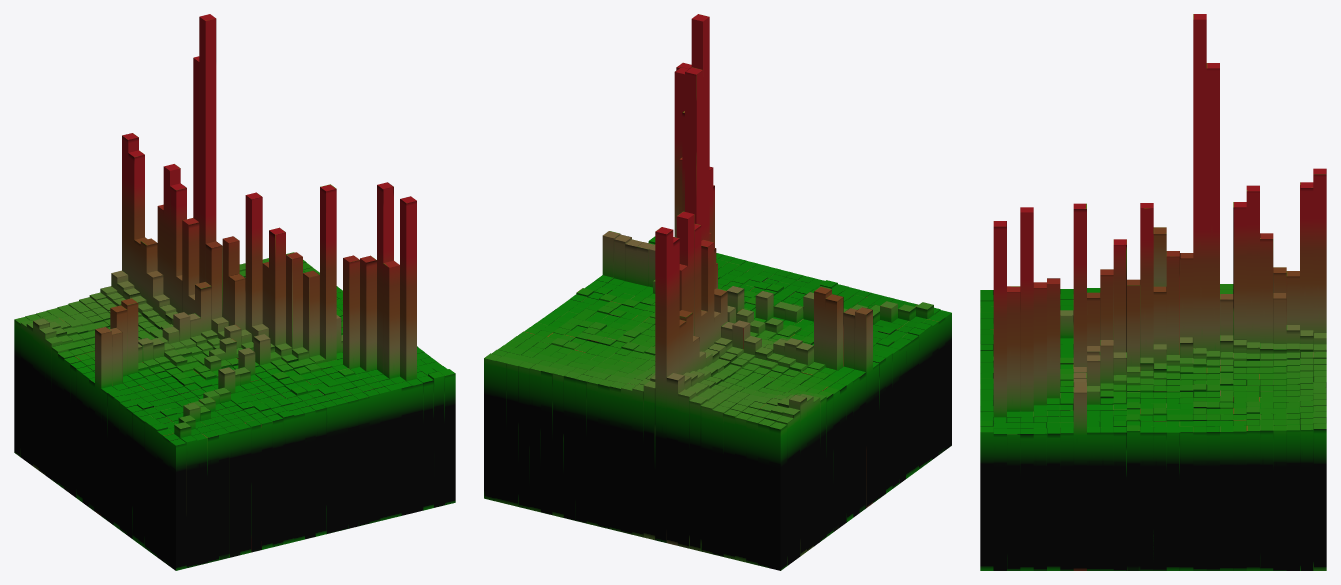
The picture shows the model from 3 angles, left to right: view 1: azimuth 30°, elevation 25°; view 2: azimuth 150°, elevation 25°; view 3: azimuth 270°, elevation 25°; orthographic projection. The views are drawn at different scales.
Parts seen in each view (by area): view 1: Cube.458; view 2: Cube.458; view 3: Cube.458.
Part boxes in pixels (left/top/right/bottom): Cube.458: left=14, top=14, right=455, bottom=570; Cube.458: left=484, top=14, right=951, bottom=570; Cube.458: left=980, top=14, right=1326, bottom=570.
Bounding box in the file's own units: 52 × 79.14 × 52.
3 materials, 2 textured.
